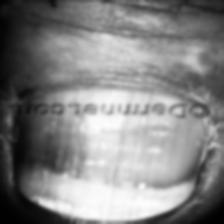Toxin: (9, 155, 216, 222)
